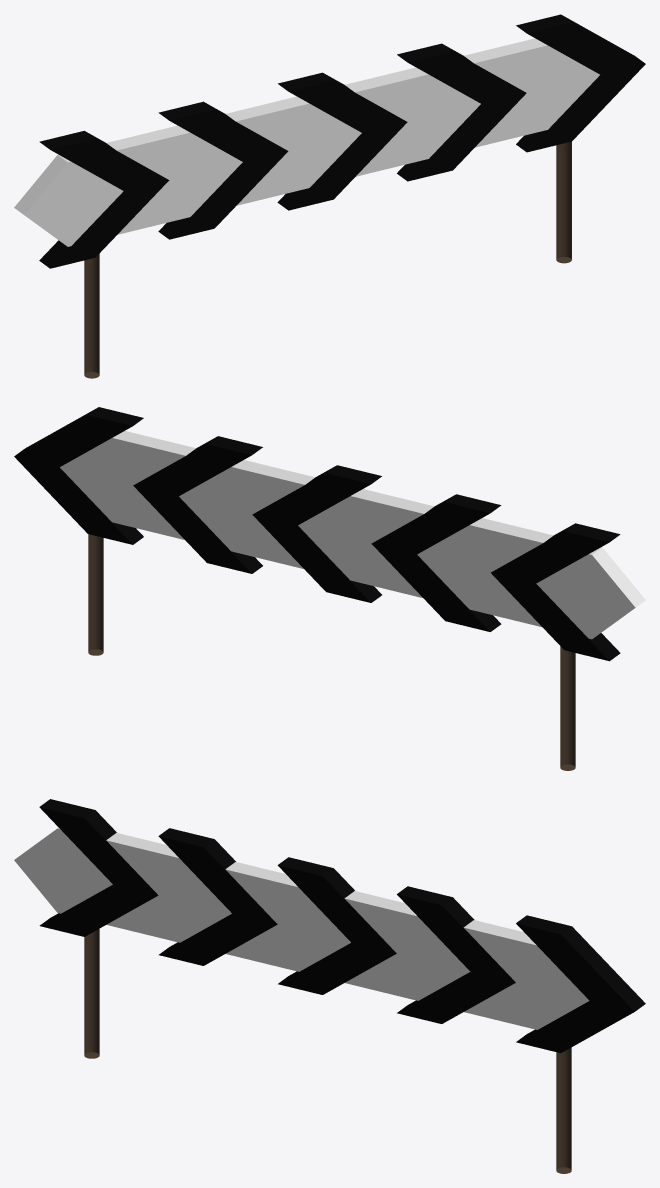
The model's file is arrow_signs.fbx.
3 renders of one model, top to bottom at view 1: azimuth 30°, elevation 25°; view 2: azimuth 150°, elevation 25°; view 3: azimuth 330°, elevation 25°, orthographic.
Visible parts, largest first — view 1: Cube.001; view 2: Cube.001; view 3: Cube.001.
Boxes of the visible parts, left/top/right/bottom form: Cube.001: left=14, top=14, right=645, bottom=378; Cube.001: left=14, top=407, right=645, bottom=770; Cube.001: left=14, top=799, right=645, bottom=1173.
Size of the model in its own units: 88.24 by 32.7 by 2.73.
